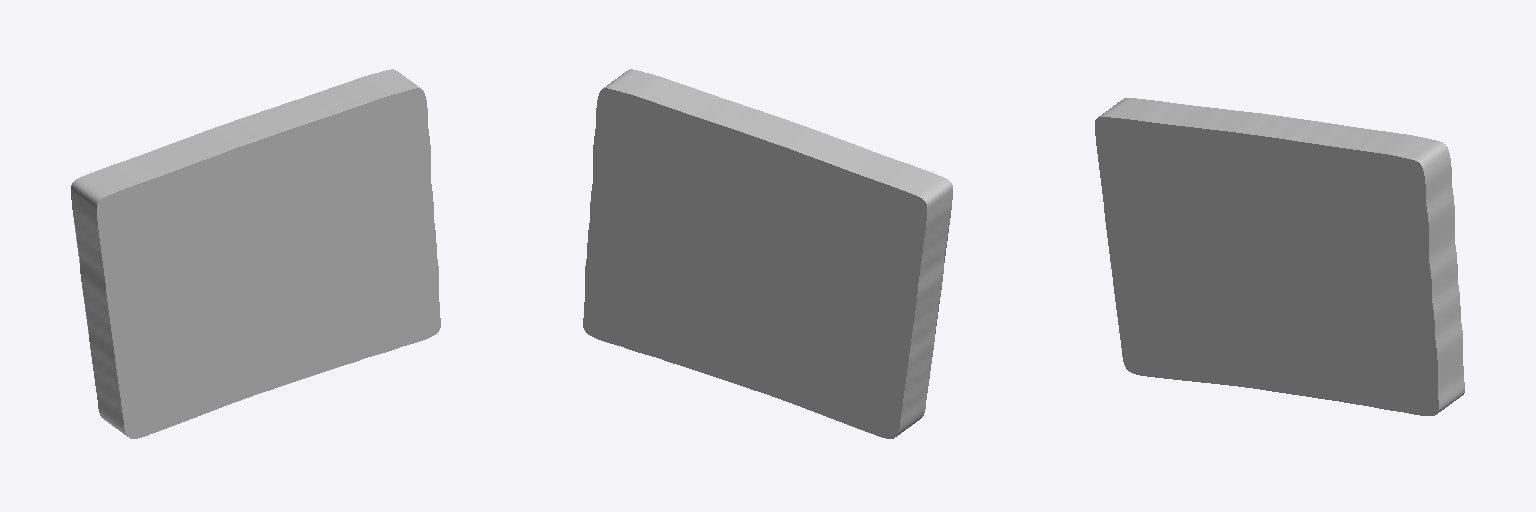
3 renders of one model, left to right at view 1: azimuth 30°, elevation 25°; view 2: azimuth 150°, elevation 25°; view 3: azimuth 330°, elevation 25°, orthographic.
Parts seen in each view (by area): view 1: 平面; view 2: 平面; view 3: 平面.
Part boxes in pixels (left/top/right/bottom): 平面: left=71, top=69, right=440, bottom=438; 平面: left=583, top=69, right=952, bottom=438; 平面: left=1095, top=98, right=1464, bottom=415.
Size of the model in its own units: 1.54 by 1.2 by 0.2.